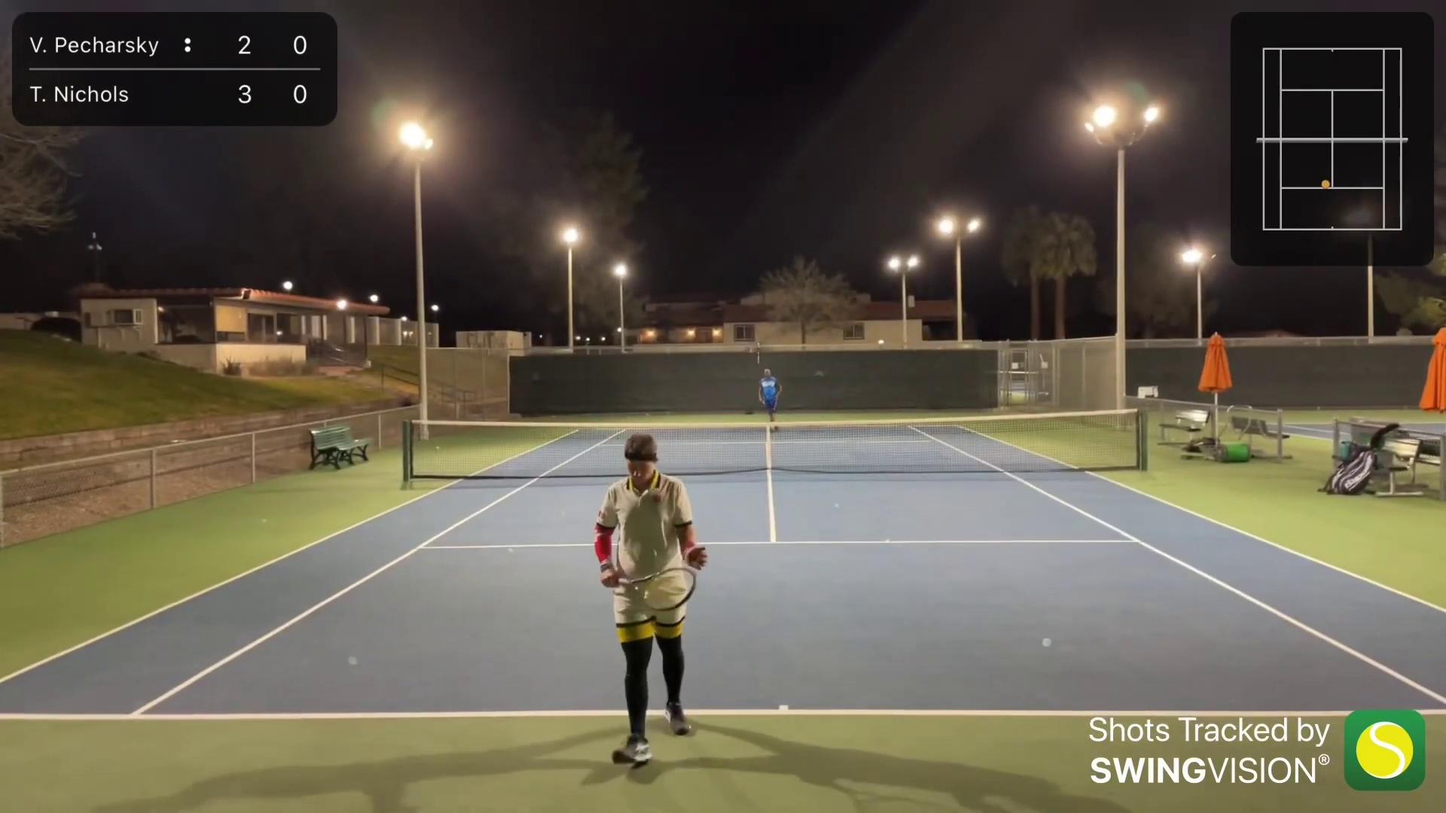ball: (1114, 332, 1117, 336)
